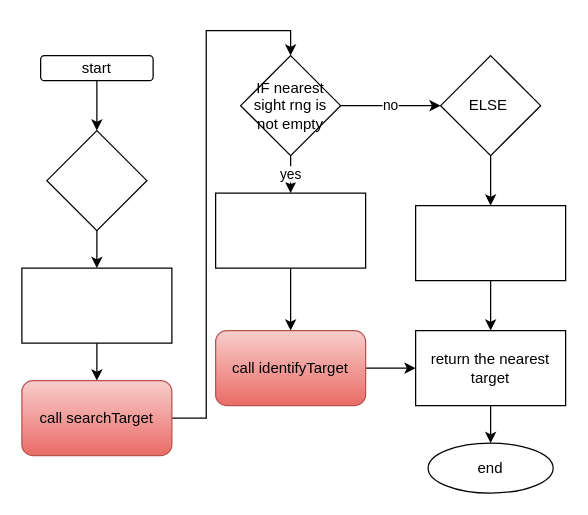
Image size: 588x515. Some labels were removed from this diagram. The centre of each missing label's shape, as x and y in pixels:
construct the identify target object: the point at 290,230
IF pop attack range undefined: the point at 96,180
set the attack rng as sight rng: the point at 96,305
set the nearest target empty array: the point at 490,242
